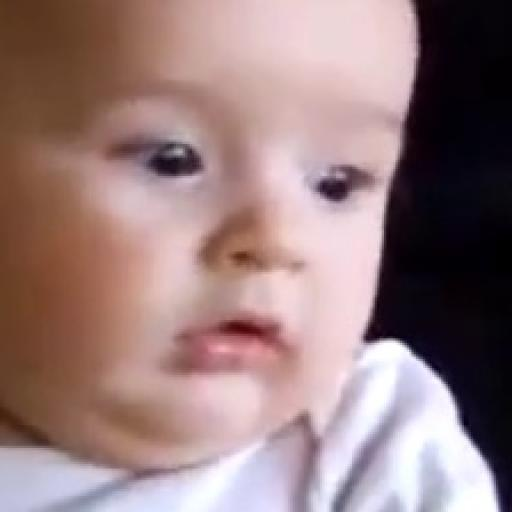Autism: (39, 4, 512, 512)
